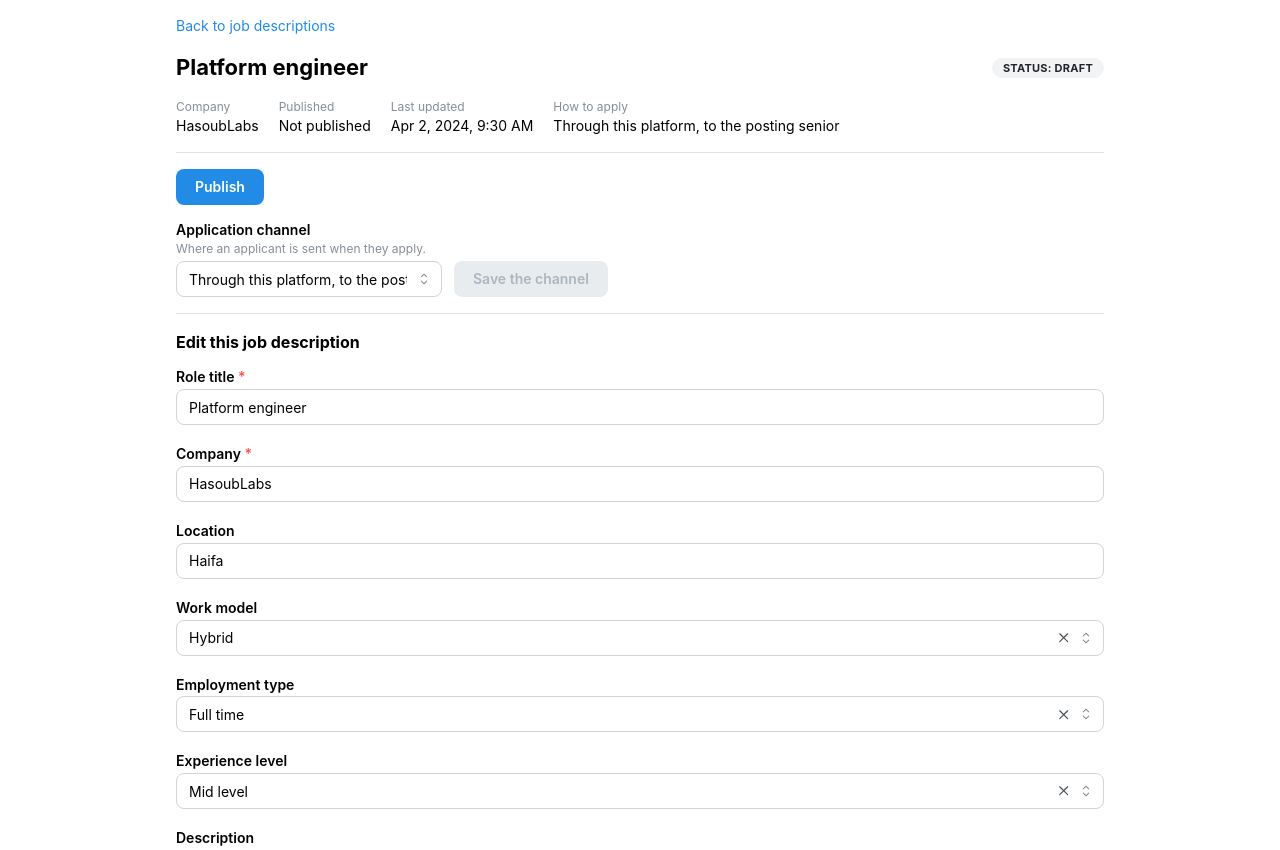
a refused lifecycle transition (Req 13 AC18) › re-derives the controls from the status the refetch reported
expect the element with test id "job-status" shows "Draft": met, box [1055,61,1093,75]
Click the button with test id "job-publish": (220, 187) [176,169,264,205]
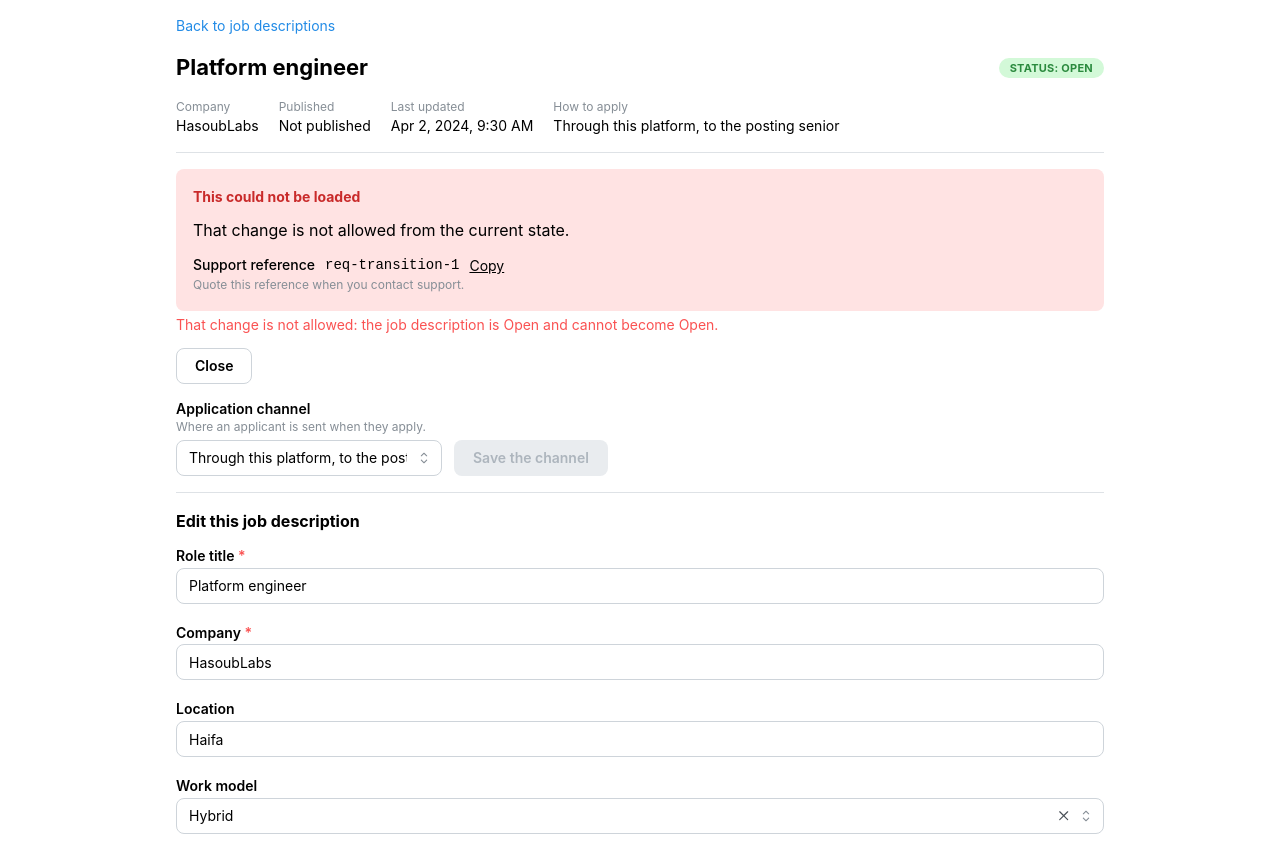
expect the button with test id "job-publish" is gone: met
expect the element with test id "job-status" shows "Open": met, box [1061,61,1093,75]
expect the button with test id "job-close" is shown: met, box [176,348,252,384]
